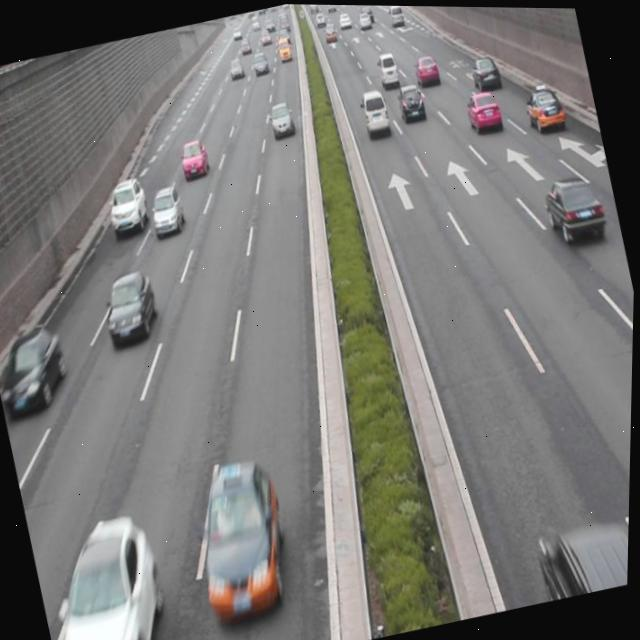car: (180, 451, 303, 623), (31, 508, 183, 640), (0, 322, 75, 419), (540, 168, 610, 248), (98, 266, 165, 348), (102, 173, 153, 237), (519, 79, 566, 135), (146, 182, 189, 236), (463, 86, 504, 135), (466, 49, 502, 93), (176, 135, 212, 179), (393, 78, 427, 124), (267, 98, 296, 139), (412, 51, 440, 88)
truck: (357, 84, 392, 139)
